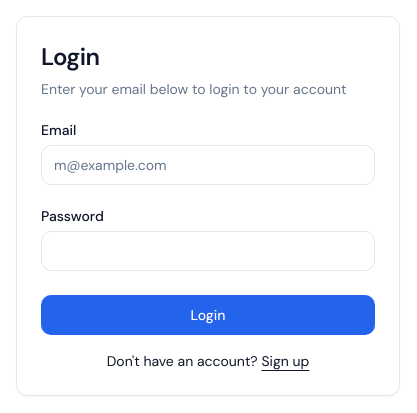
it: Login Page › displays loading state while logging in
Type "test@example.com" into the field labelled "Email". click: (208, 165)
box: [41, 145, 375, 185]
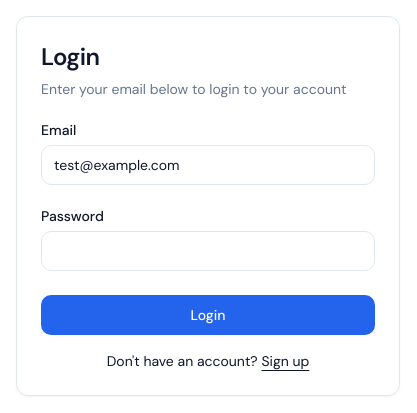
Type "password123" into the password field labelled "Password". click: (208, 251)
box: [41, 231, 375, 271]
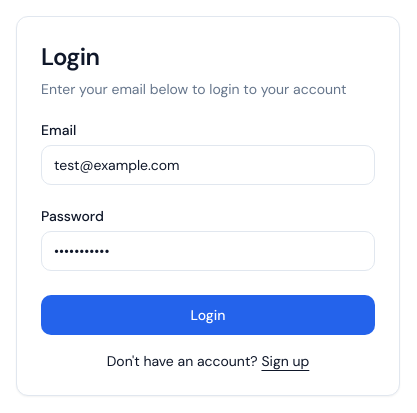
Click the button "Login". click: (208, 315)
box: [41, 295, 375, 335]
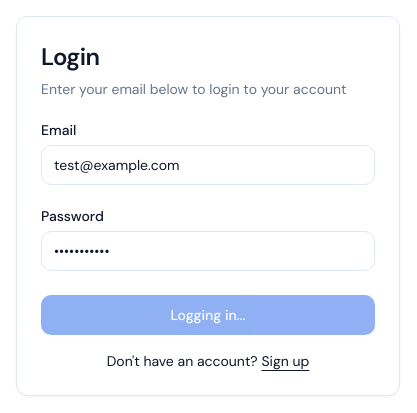
Expected: the button "Logging in..." is disabled, [41, 295, 375, 335]
